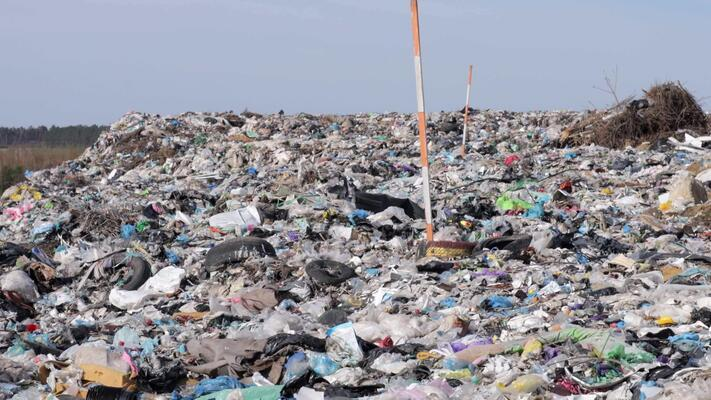Trash: (7, 29, 711, 400)
